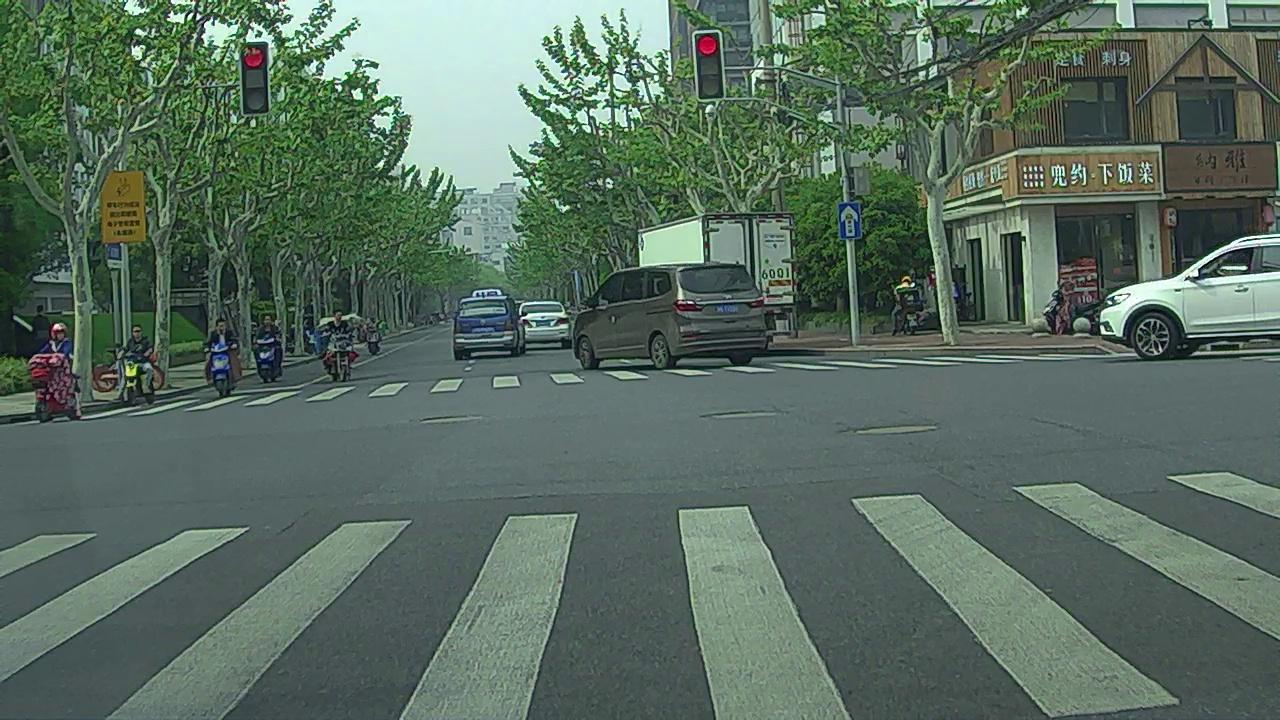traffic_light: (241, 37, 271, 119), (695, 33, 729, 99)
